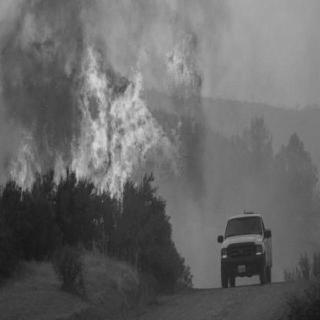Fire: (14, 19, 207, 218)
